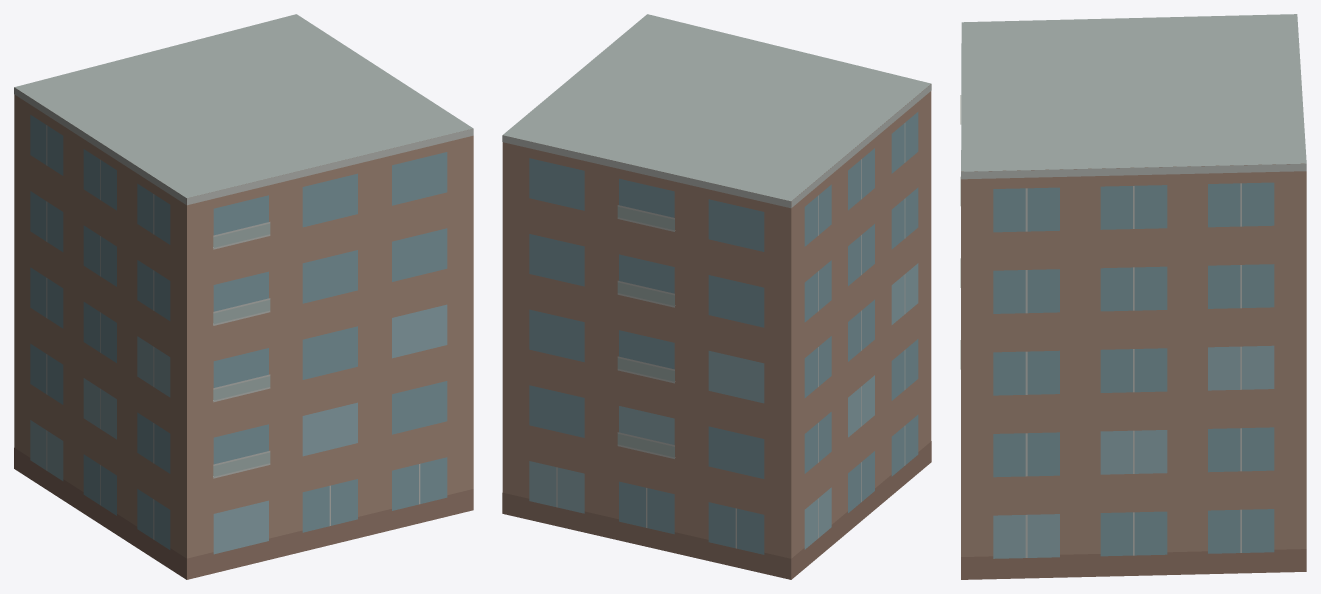
The model's file is survey-upis-32894167.glb.
3 renders of one model, left to right at view 1: azimuth 30°, elevation 25°; view 2: azimuth 150°, elevation 25°; view 3: azimuth 270°, elevation 25°, orthographic. The views are drawn at different scales.
Parts seen in each view (by area): view 1: survey-upis-32894167.tmp; view 2: survey-upis-32894167.tmp; view 3: survey-upis-32894167.tmp.
Part boxes in pixels (x1,y1,x2,y2): survey-upis-32894167.tmp: [14, 14, 473, 579]; survey-upis-32894167.tmp: [502, 14, 931, 579]; survey-upis-32894167.tmp: [960, 14, 1306, 579].
Size of the model in its own units: 10.95 by 13.2 by 10.17.
